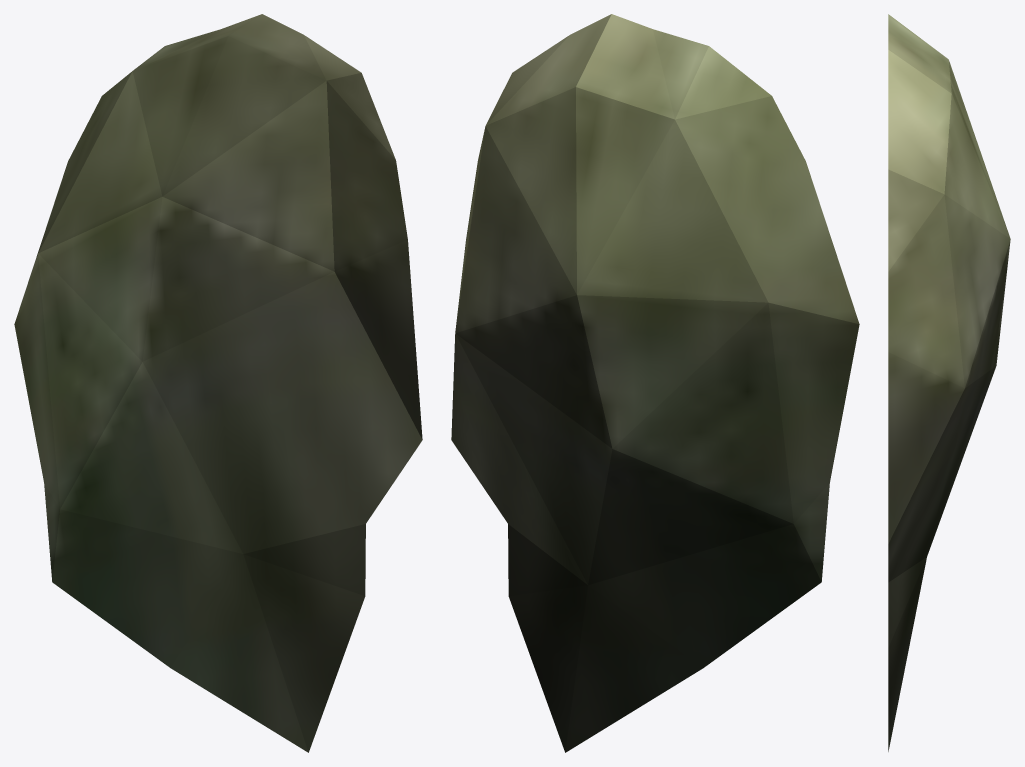
3 views of the same model, side by side, from view 1: azimuth 30°, elevation 25°; view 2: azimuth 150°, elevation 25°; view 3: azimuth 270°, elevation 25° (orthographic). The views are drawn at different scales.
Bounding box in the file's own units: 0.3447 × 0.6055 × 0.0983.
Materials: 1 (1 with a texture image).
